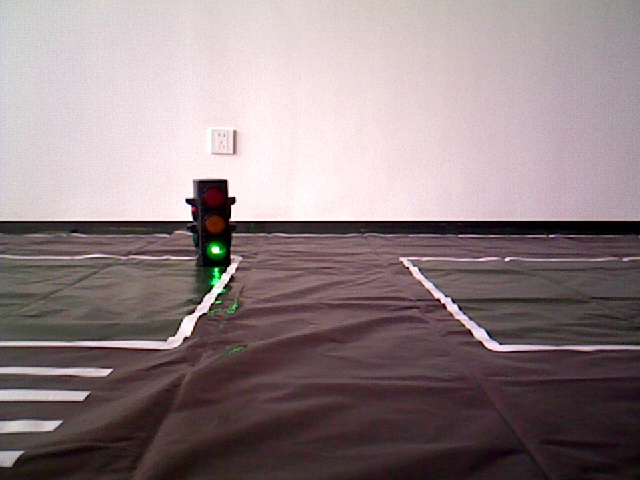green: (189, 183, 229, 258)
